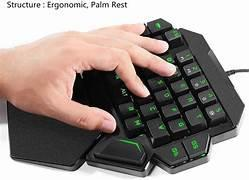keyboard: (83, 17, 244, 177)
